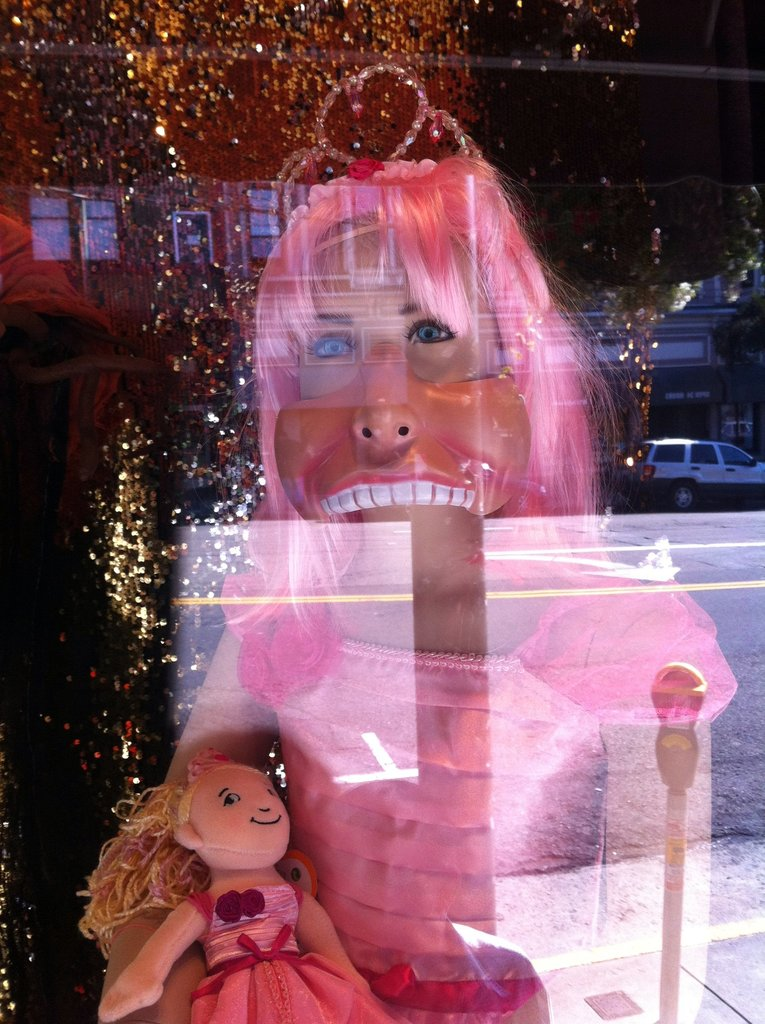Car: (619, 424, 753, 513)
